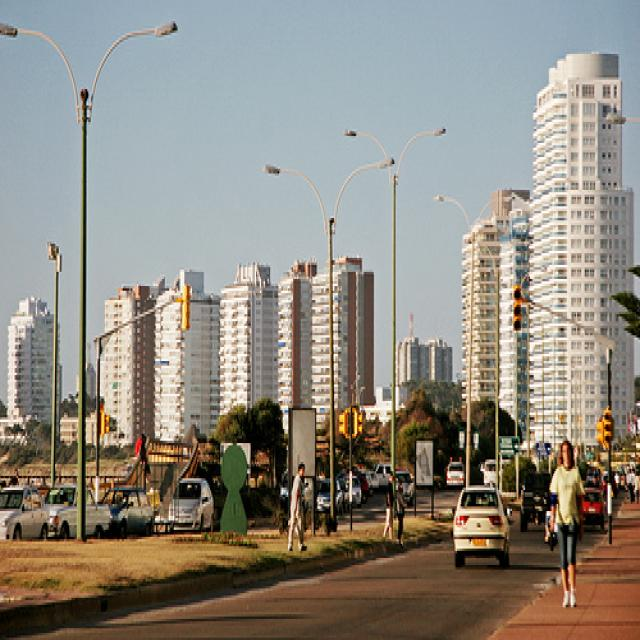Vehicle: (451, 486, 510, 567), (98, 487, 152, 539), (1, 485, 50, 541), (167, 477, 214, 534), (519, 470, 551, 531), (44, 485, 77, 540), (577, 487, 605, 532), (317, 476, 345, 515), (484, 460, 512, 488), (396, 471, 414, 508), (446, 462, 465, 487), (373, 466, 391, 486), (352, 476, 362, 504)
